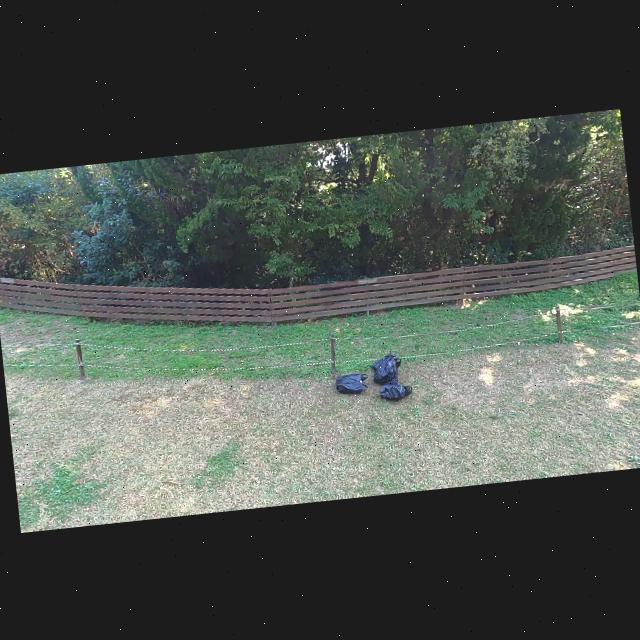trash: (332, 368, 370, 399), (367, 346, 404, 375), (374, 376, 412, 402), (372, 353, 400, 386)
